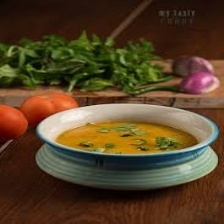dal: (53, 117, 198, 155)
